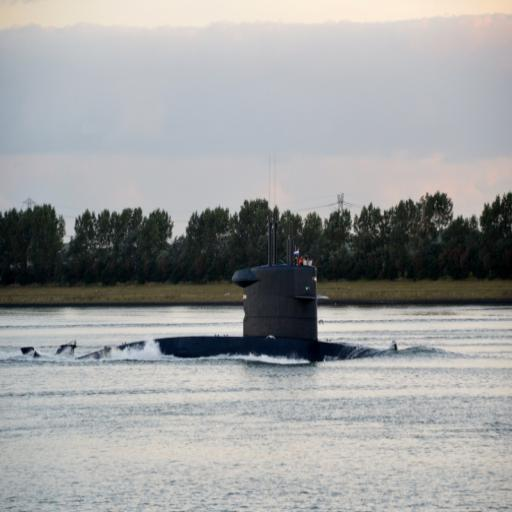submarine: (143, 251, 395, 360)
